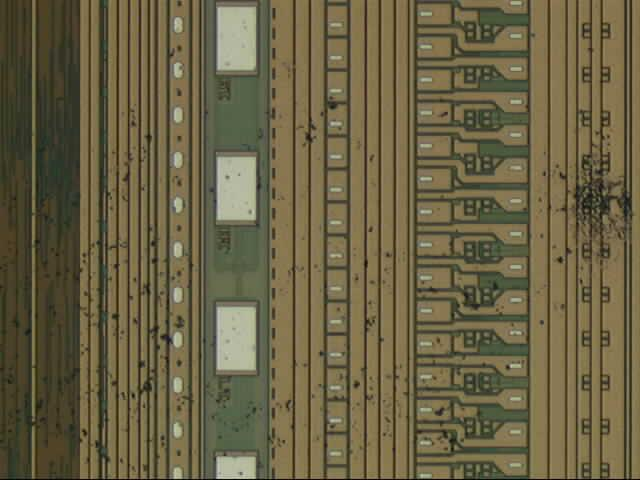PO CONTAMINATION: (5, 43, 637, 477)
